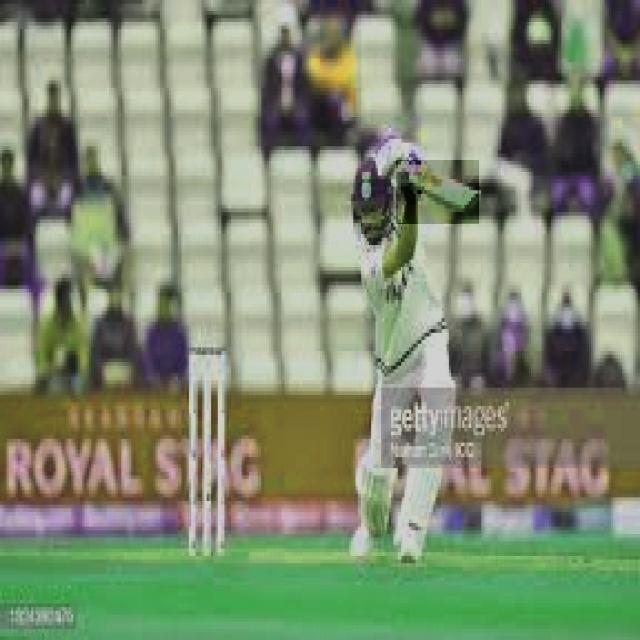bat: (391, 154, 484, 223)
toe: (452, 184, 488, 221)
